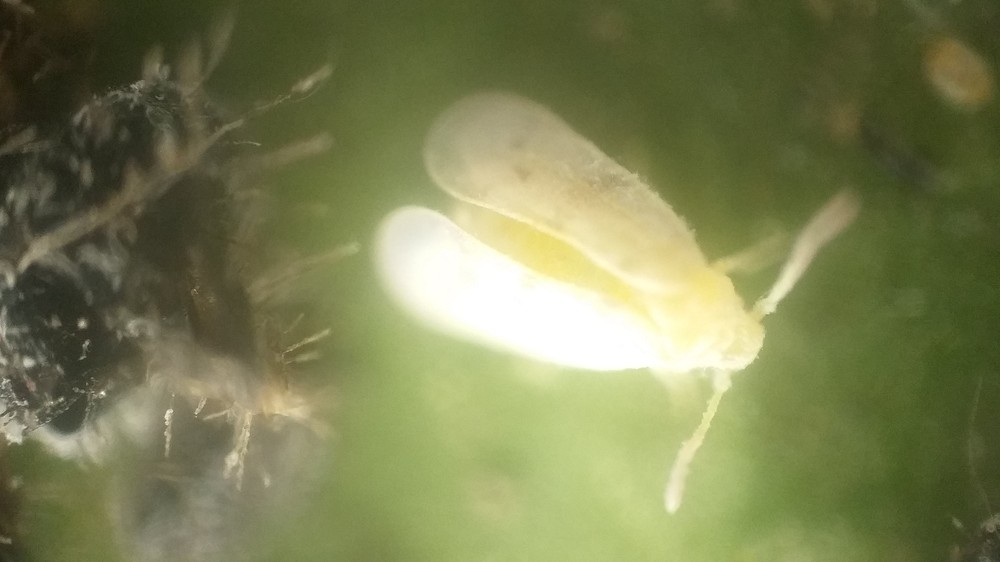Mosca Blanca: (370, 92, 872, 529)
